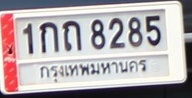num1: (21, 22, 36, 55)
txt01: (38, 21, 60, 53)
txt17: (60, 20, 83, 52)
